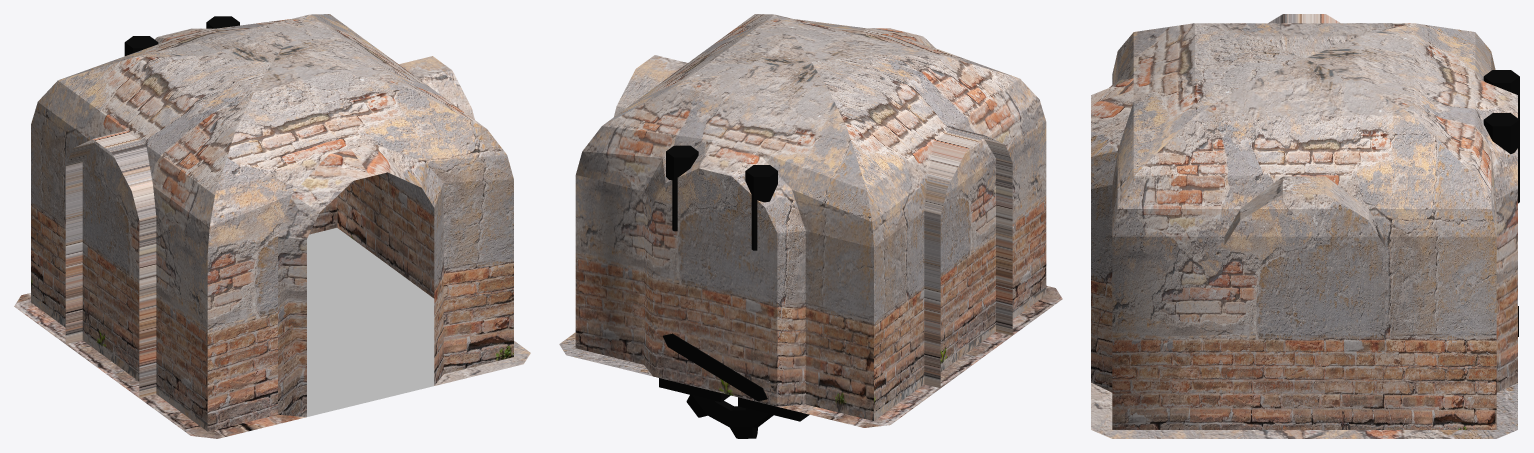
Rendered from MAZE-ELEMENTS-Loop-2-pump.fbx.
3 views of the same model, side by side, from view 1: azimuth 30°, elevation 25°; view 2: azimuth 150°, elevation 25°; view 3: azimuth 270°, elevation 25° (orthographic). The views are drawn at different scales.
Visible parts, largest first — view 1: loop.002; view 2: loop.002, gear, rocker; view 3: loop.002.
Boxes of the visible parts, bbox=[...] form: loop.002: bbox=[14, 14, 530, 438]; loop.002: bbox=[559, 14, 1062, 427]; gear: bbox=[686, 395, 773, 438]; rocker: bbox=[662, 333, 767, 401]; loop.002: bbox=[1091, 14, 1519, 438].
Bounding box in the file's own units: 400 × 369 × 402.
